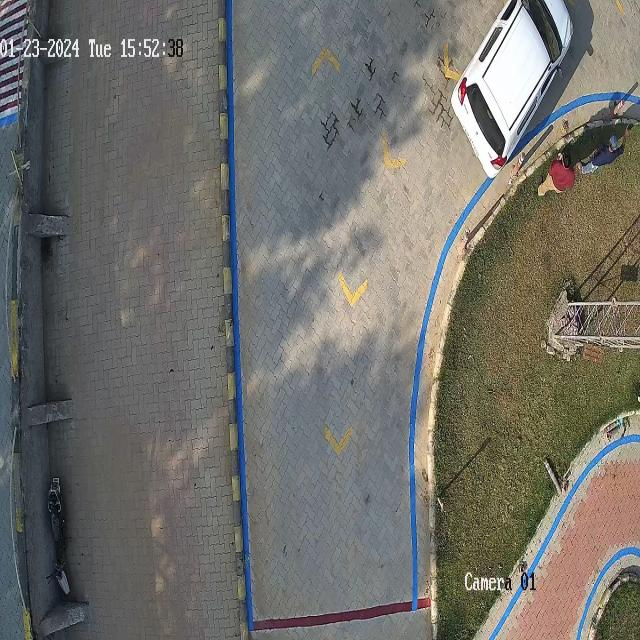car: (451, 0, 574, 176)
